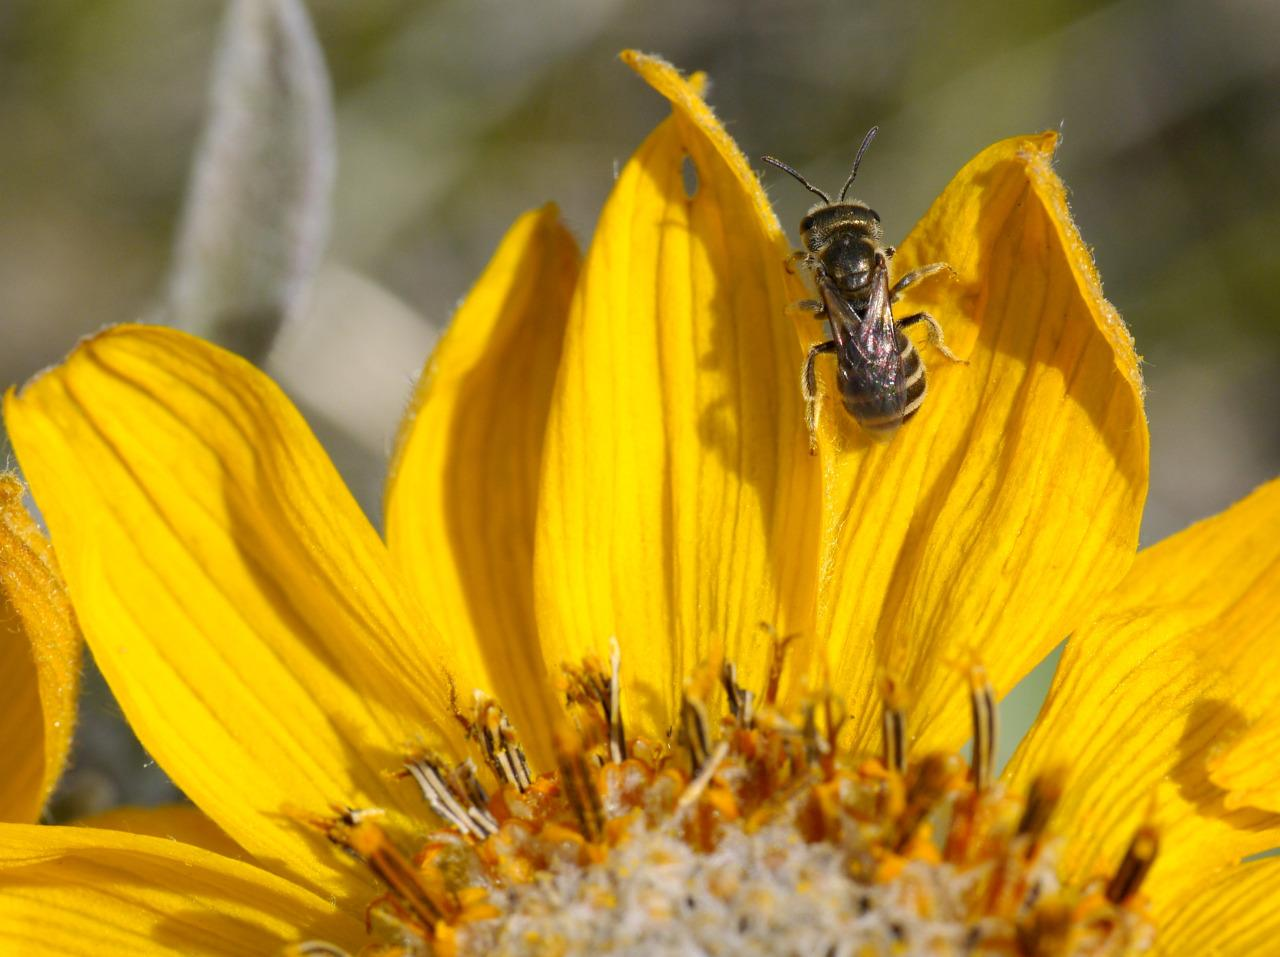Seladonia: (751, 113, 980, 466)
